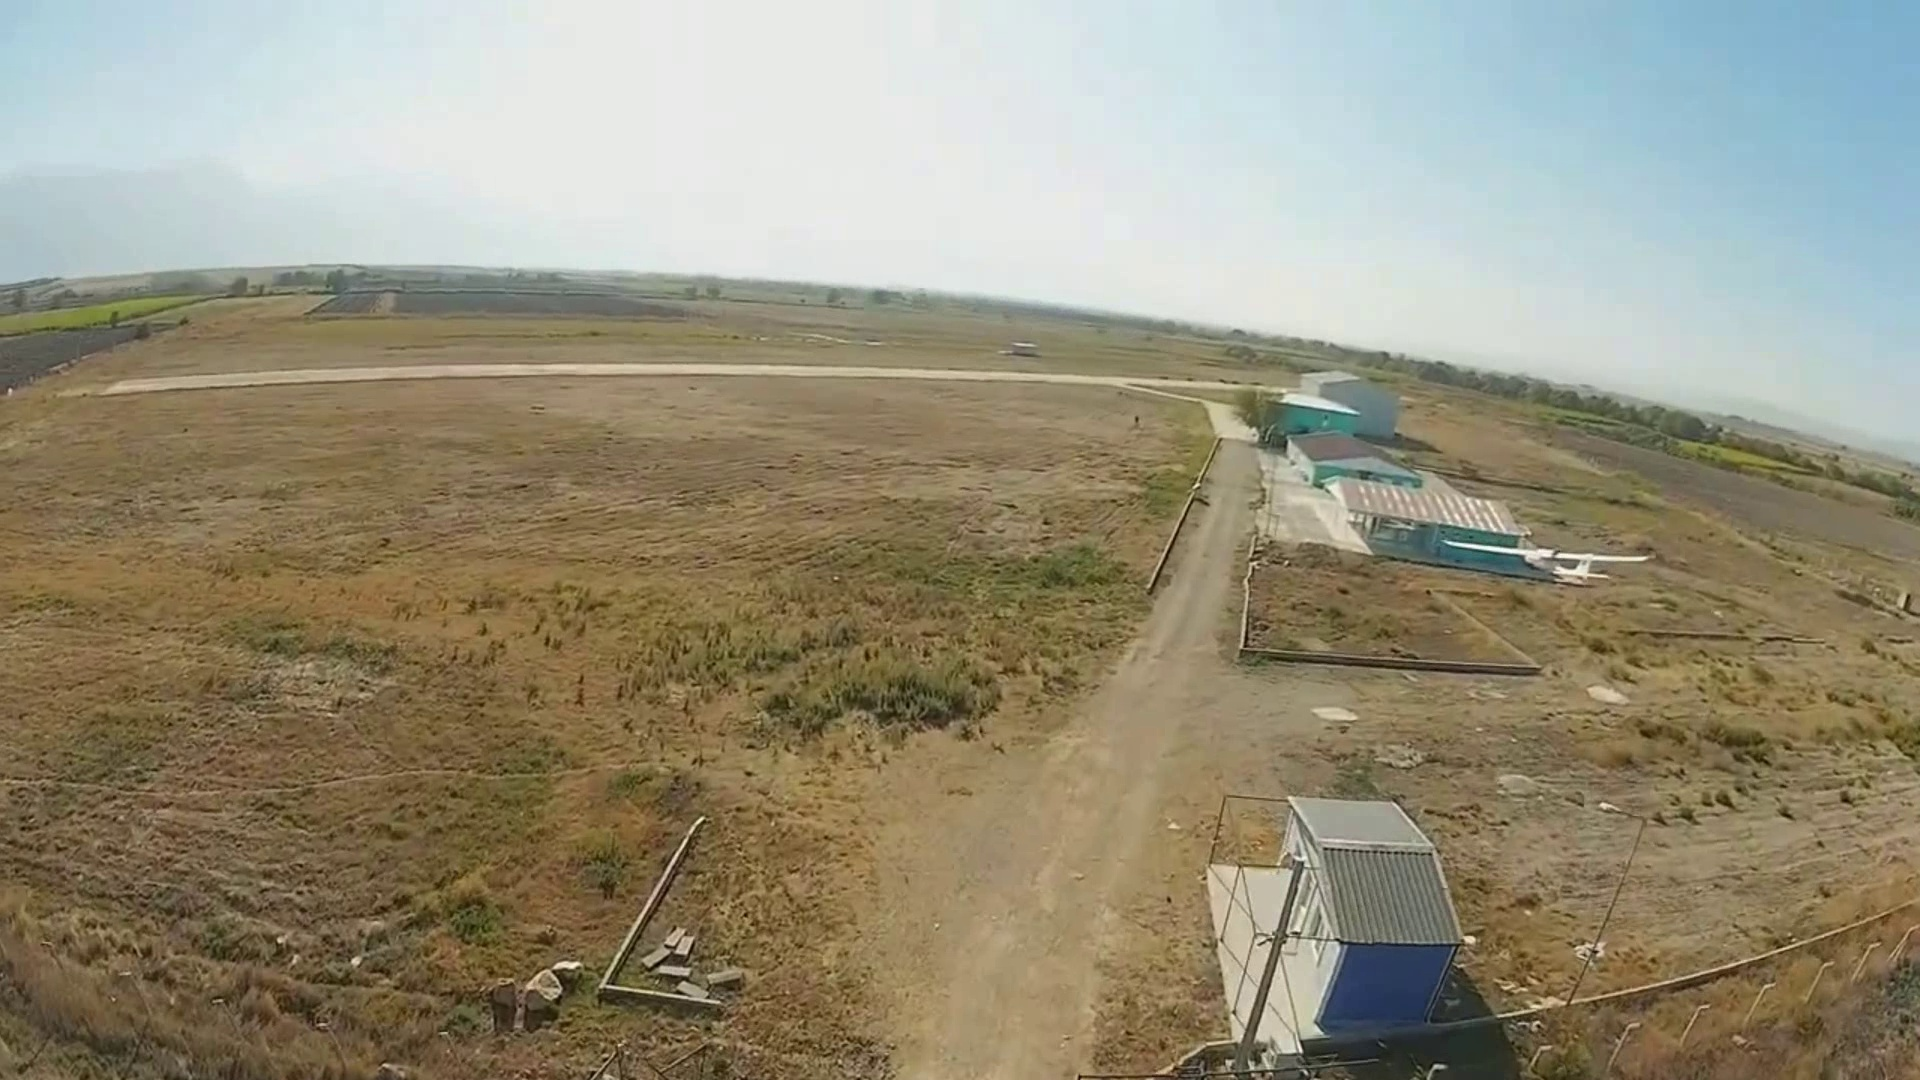airplane: (1259, 385, 1654, 584)
